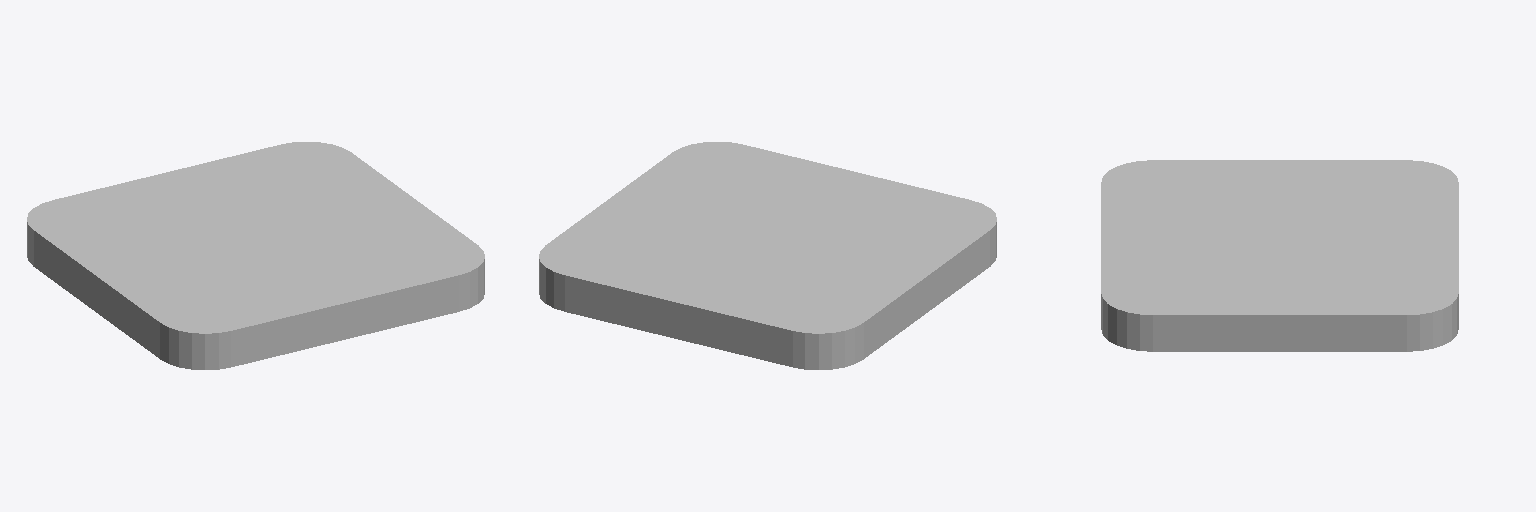
File: original-31.obj
The picture shows the model from 3 angles: view 1: azimuth 30°, elevation 25°; view 2: azimuth 150°, elevation 25°; view 3: azimuth 270°, elevation 25°; orthographic projection.
Visible parts, largest first — view 1: mesh30/mesh30-geometry#mesh30-geometry; view 2: mesh30/mesh30-geometry#mesh30-geometry; view 3: mesh30/mesh30-geometry#mesh30-geometry.
Part boxes in pixels (x1,y1,x2,y2): mesh30/mesh30-geometry#mesh30-geometry: (27, 142, 484, 369); mesh30/mesh30-geometry#mesh30-geometry: (539, 142, 996, 369); mesh30/mesh30-geometry#mesh30-geometry: (1101, 160, 1458, 351).
Size of the model in its own units: 0.0583 by 0.0064 by 0.0568.